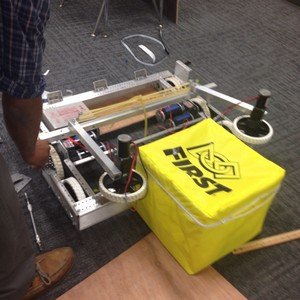cube: (128, 118, 287, 276)
